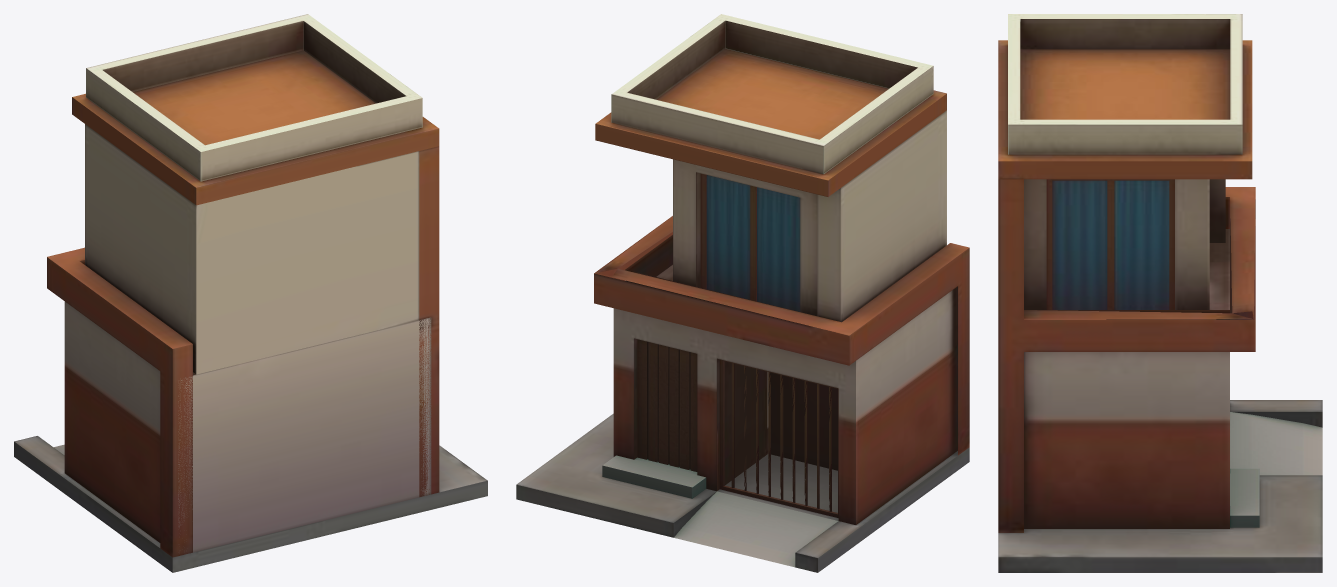
Rendered from casa-dos-pisos.glb.
3 renders of one model, left to right at view 1: azimuth 30°, elevation 25°; view 2: azimuth 150°, elevation 25°; view 3: azimuth 270°, elevation 25°, orthographic. The views are drawn at different scales.
Parts seen in each view (by area): view 1: Piso 1, Piso 2, Techo muros, Base techo.002, Soportes, Piso3; view 2: Piso 1, Piso 2, Techo muros, Soportes, Base techo.002, Piso3, Puerta vidrio, Puerta 2, Rampa, Rejas, Escalon 2; view 3: Piso 1, Base techo.002, Soportes, Piso3, Techo muros, Puerta vidrio, Piso 2, Rampa, Escalon 2.
Boxes of the visible parts, x1,y1,x2,y2 form: Piso 1: [64, 301, 431, 552]; Piso 2: [85, 124, 419, 374]; Techo muros: [86, 14, 422, 181]; Base techo.002: [72, 50, 439, 205]; Soportes: [47, 146, 439, 557]; Piso3: [14, 436, 487, 572]; Piso 1: [613, 265, 957, 524]; Piso 2: [673, 110, 946, 322]; Techo muros: [611, 14, 933, 174]; Soportes: [594, 216, 969, 455]; Base techo.002: [595, 49, 946, 196]; Piso3: [516, 413, 969, 572]; Puerta vidrio: [700, 173, 800, 311]; Puerta 2: [637, 339, 697, 471]; Rampa: [674, 491, 838, 567]; Rejas: [719, 359, 838, 517]; Escalon 2: [602, 455, 706, 498]; Piso 1: [1024, 229, 1229, 528]; Base techo.002: [998, 40, 1252, 179]; Soportes: [998, 179, 1255, 532]; Piso3: [998, 400, 1322, 572]; Techo muros: [1008, 14, 1242, 154]; Puerta vidrio: [1046, 179, 1174, 309]; Piso 2: [1024, 179, 1225, 309]; Rampa: [1230, 412, 1322, 475]; Escalon 2: [1230, 468, 1259, 527].
Bounding box in the file's own units: 6.17 × 7.66 × 5.38.
Materials: 11 (11 with a texture image).
